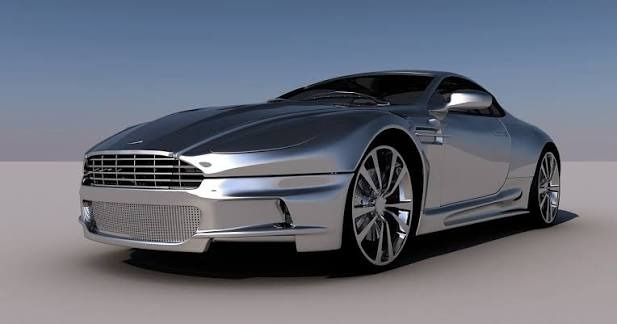car: (61, 66, 576, 274)
